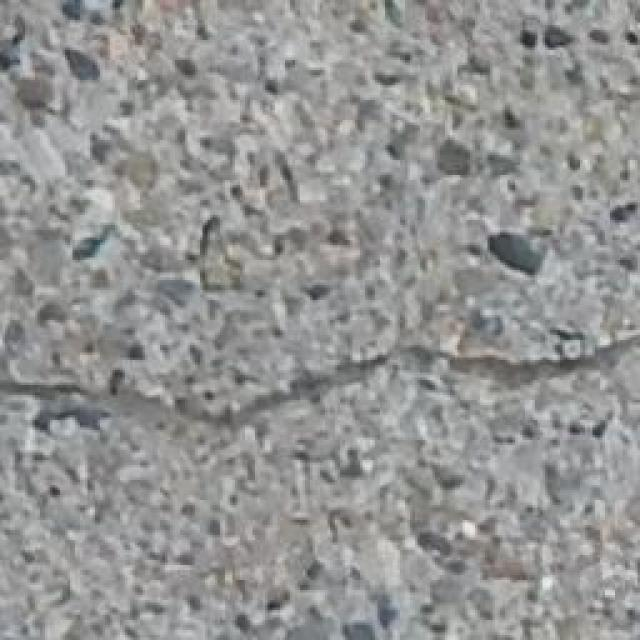concrete-crack: (0, 324, 640, 455), (488, 230, 548, 278)
